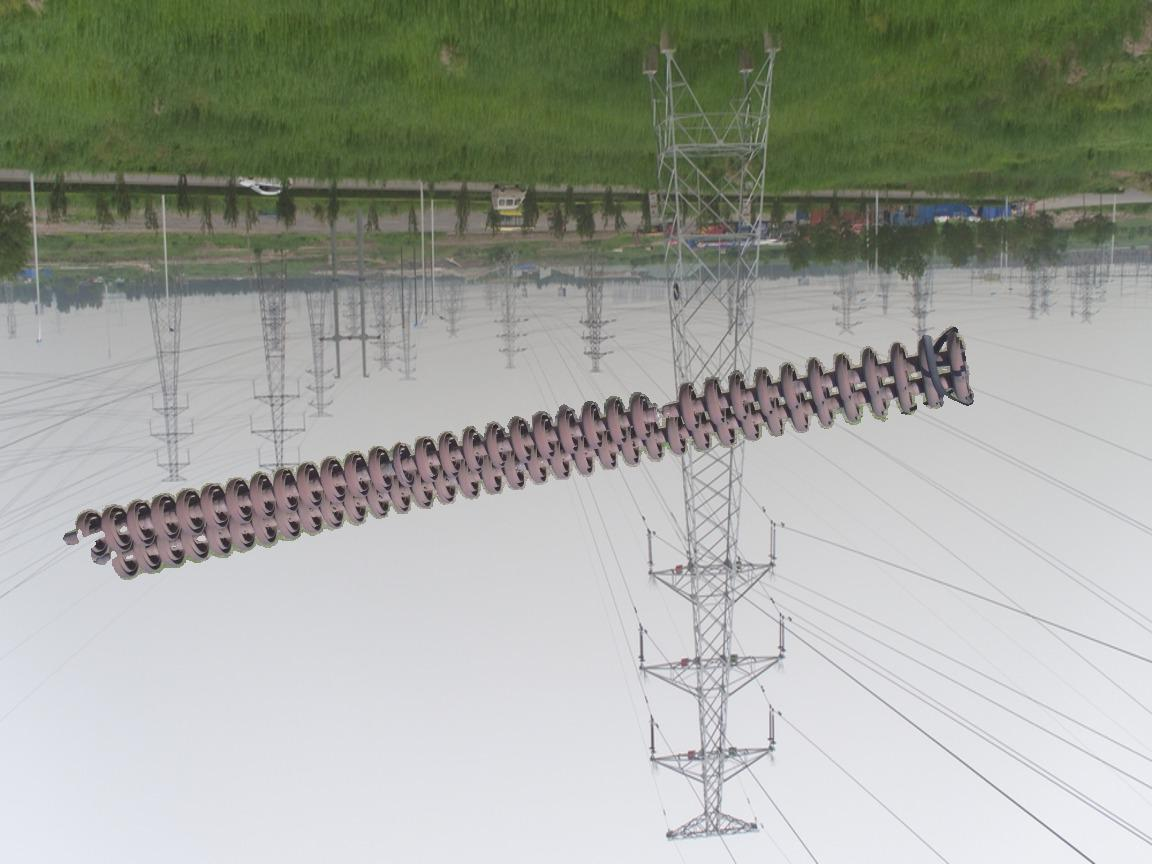insulator: (69, 330, 974, 586)
insulator_stringdrop: (628, 380, 702, 443)
